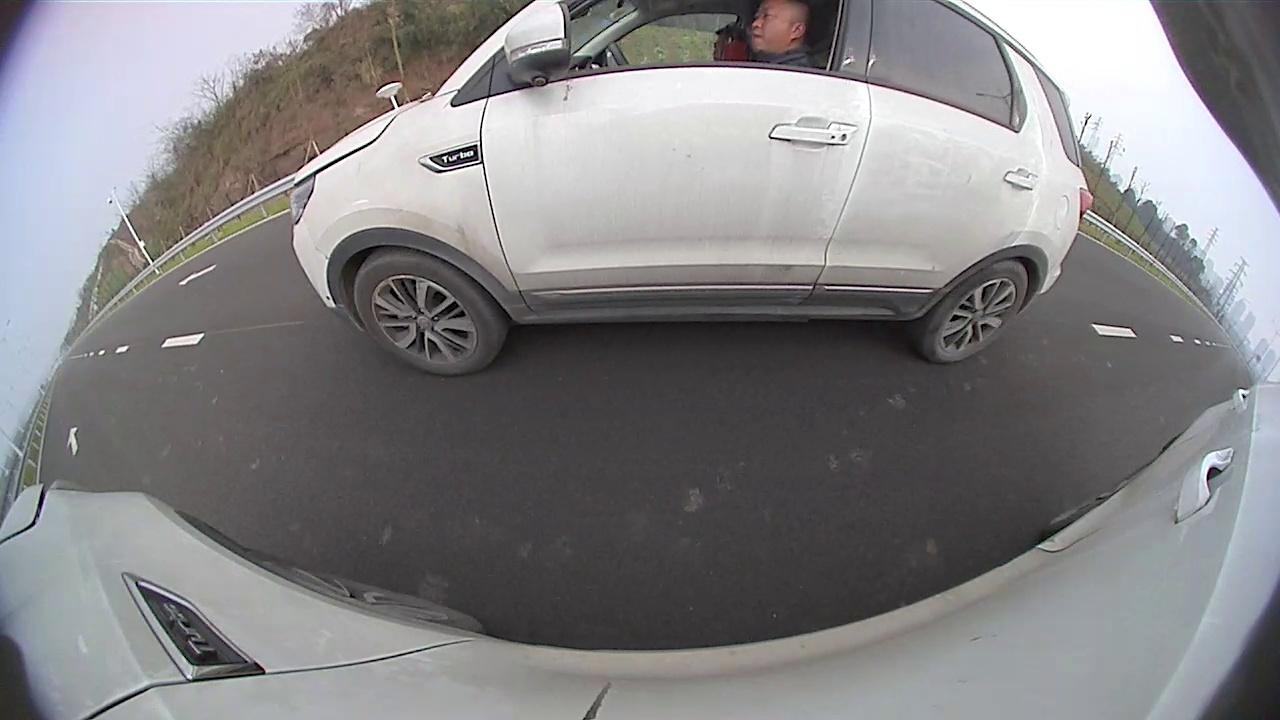car: (288, 1, 1095, 376)
front: (356, 254, 499, 376)
rear: (925, 262, 1027, 364)
